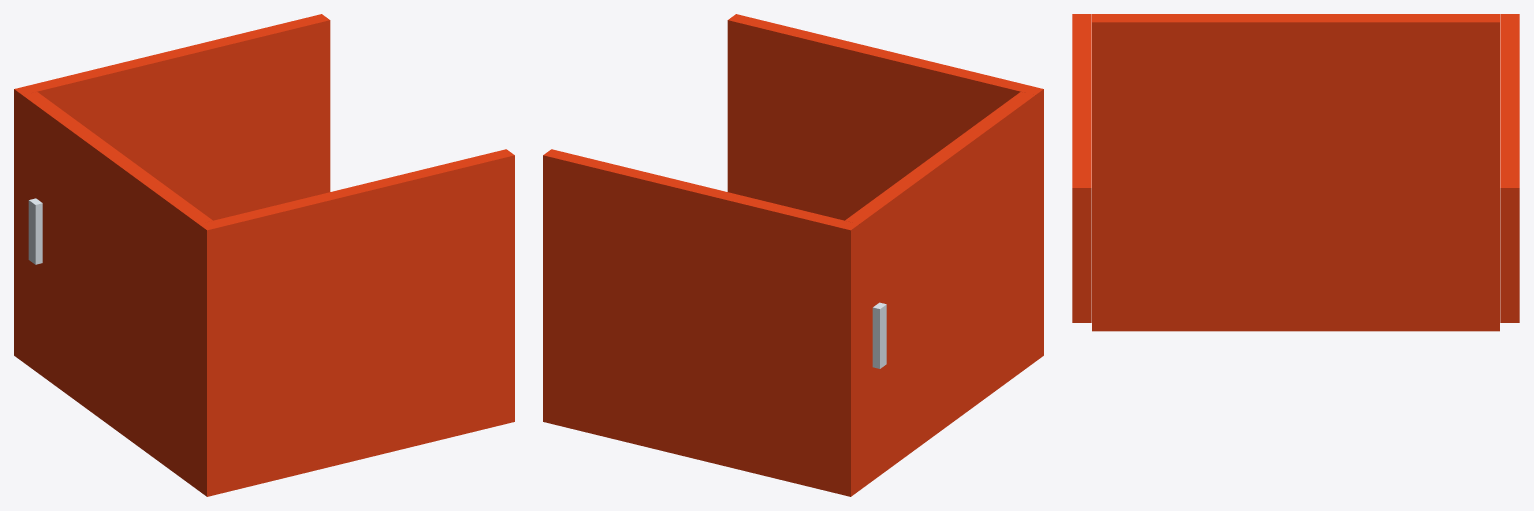
File: toilet5.FBX
3 renders of one model, left to right at view 1: azimuth 30°, elevation 25°; view 2: azimuth 150°, elevation 25°; view 3: azimuth 270°, elevation 25°, orthographic. The views are drawn at different scales.
Visible parts, largest first — view 1: Box1204; view 2: Box1204; view 3: Box1204.
Part boxes in pixels (x1,y1,x2,y2): Box1204: [14, 14, 514, 496]; Box1204: [543, 14, 1043, 496]; Box1204: [1072, 14, 1519, 331].
Size of the model in its own units: 3.44 by 2.78 by 3.65.
